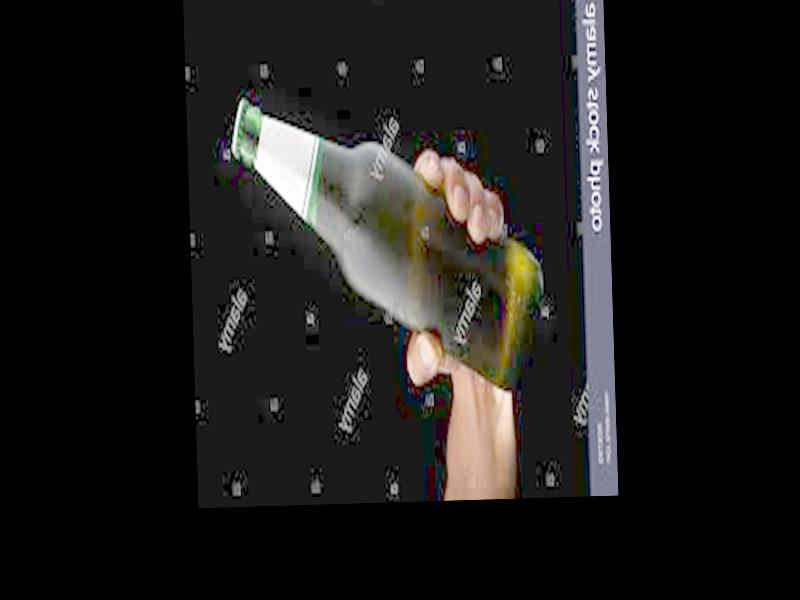Beer: (228, 86, 549, 400)
